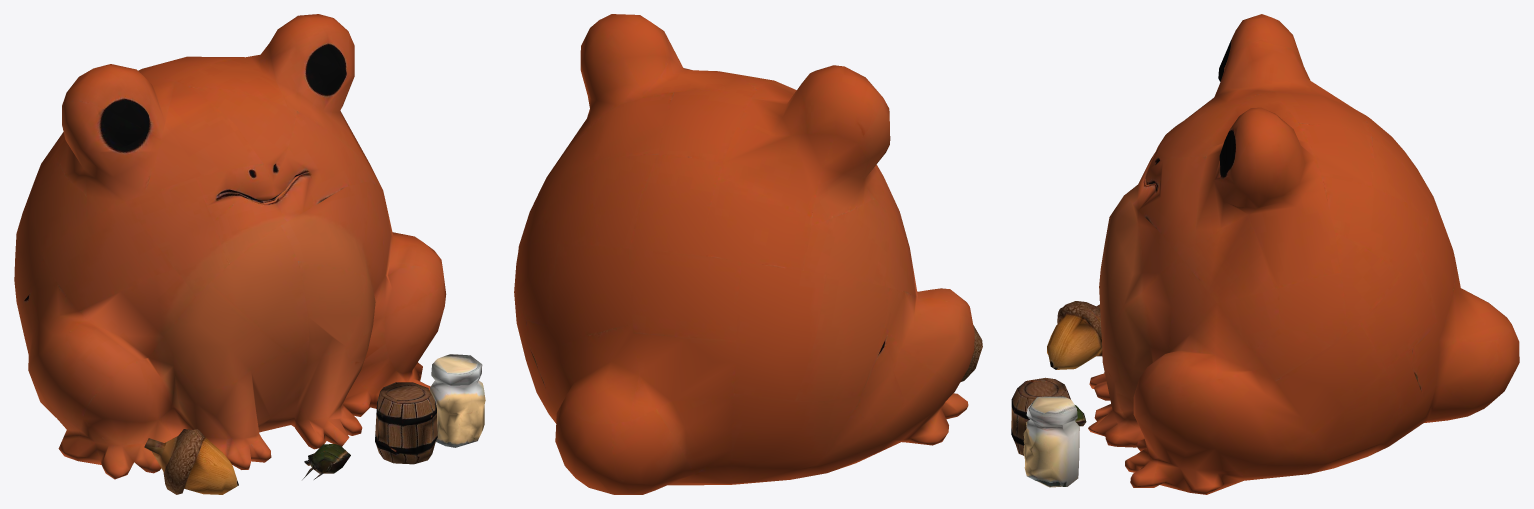
File: mycologue.glb
3 renders of one model, left to right at view 1: azimuth 30°, elevation 25°; view 2: azimuth 150°, elevation 25°; view 3: azimuth 270°, elevation 25°, orthographic. The views are drawn at different scales.
Visible parts, largest first — view 1: mesh_node; view 2: mesh_node; view 3: mesh_node.
Part boxes in pixels (x1,y1,x2,y2): mesh_node: (14,14,485,494); mesh_node: (514,14,982,494); mesh_node: (1011,14,1519,494).
Size of the model in its own units: 1.63 by 1.42 by 1.88.
1 material, 1 textured.
